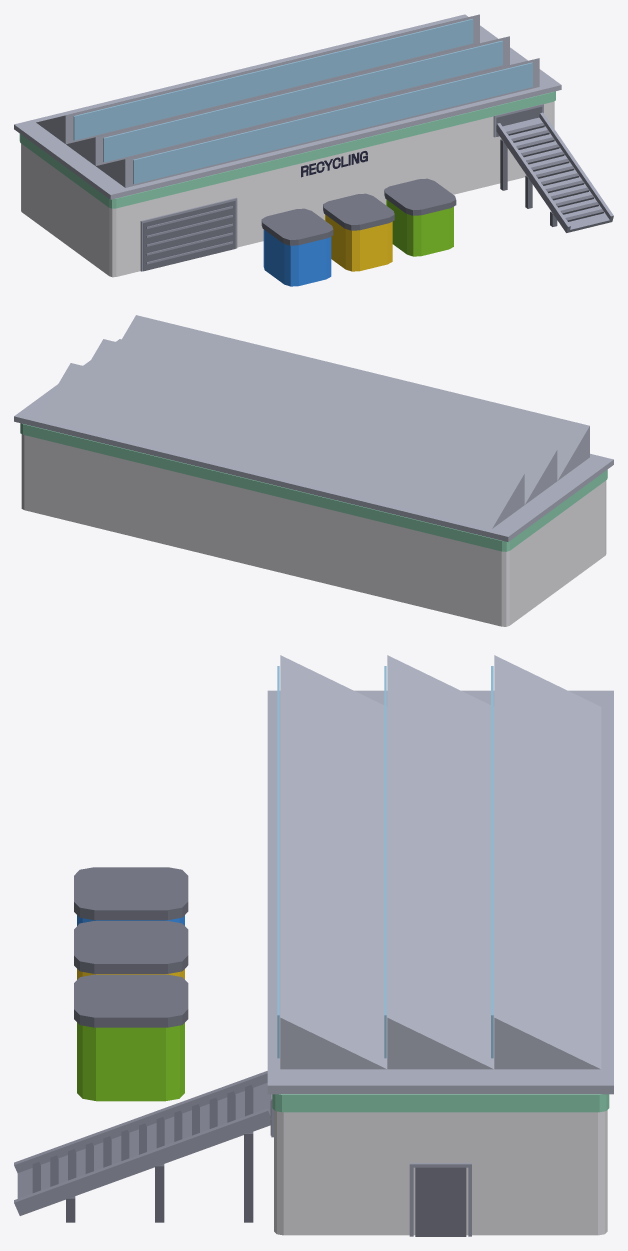
Rendered from recycling-3x2-t3.glb.
3 renders of one model, top to bottom at view 1: azimuth 30°, elevation 25°; view 2: azimuth 150°, elevation 25°; view 3: azimuth 270°, elevation 25°, orthographic. The views are drawn at different scales.
Parts seen in each view (by area): view 1: recycling-3x2-t3; view 2: recycling-3x2-t3; view 3: recycling-3x2-t3.
Boxes of the visible parts, x1,y1,x2,y2 form: recycling-3x2-t3: (14, 14, 613, 286); recycling-3x2-t3: (14, 315, 613, 626); recycling-3x2-t3: (14, 655, 613, 1236).
Size of the model in its own units: 2.94 by 0.71 by 1.89.
Materials: 1 (1 with a texture image).
